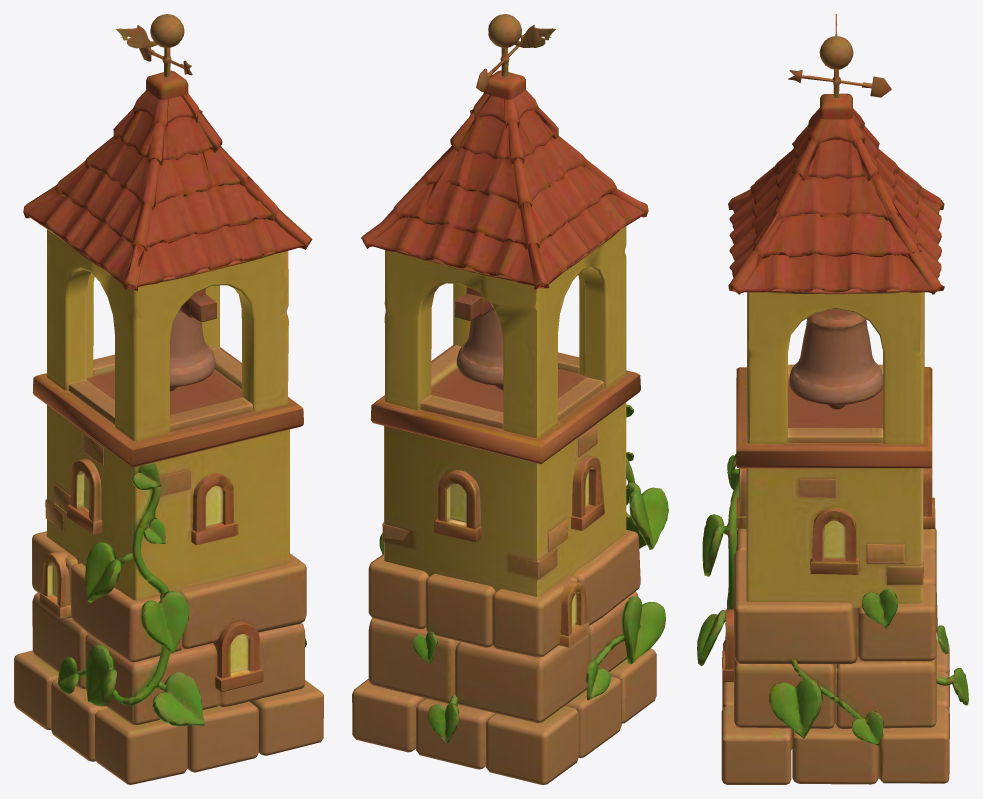
Rendered from pueblo_campanario.glb.
3 views of the same model, side by side, from view 1: azimuth 30°, elevation 25°; view 2: azimuth 150°, elevation 25°; view 3: azimuth 270°, elevation 25° (orthographic).
Parts seen in each view (by area): view 1: tripo_node_aba98e59-c565-45a2-9d47-4afbaee97be1; view 2: tripo_node_aba98e59-c565-45a2-9d47-4afbaee97be1; view 3: tripo_node_aba98e59-c565-45a2-9d47-4afbaee97be1.
Boxes of the visible parts, <box> form: tripo_node_aba98e59-c565-45a2-9d47-4afbaee97be1: <box>14,14,323,784</box>; tripo_node_aba98e59-c565-45a2-9d47-4afbaee97be1: <box>352,14,668,784</box>; tripo_node_aba98e59-c565-45a2-9d47-4afbaee97be1: <box>697,14,968,784</box>.
Size of the model in its own units: 0.3444 by 0.9994 by 0.3514.
1 material, 1 textured.
